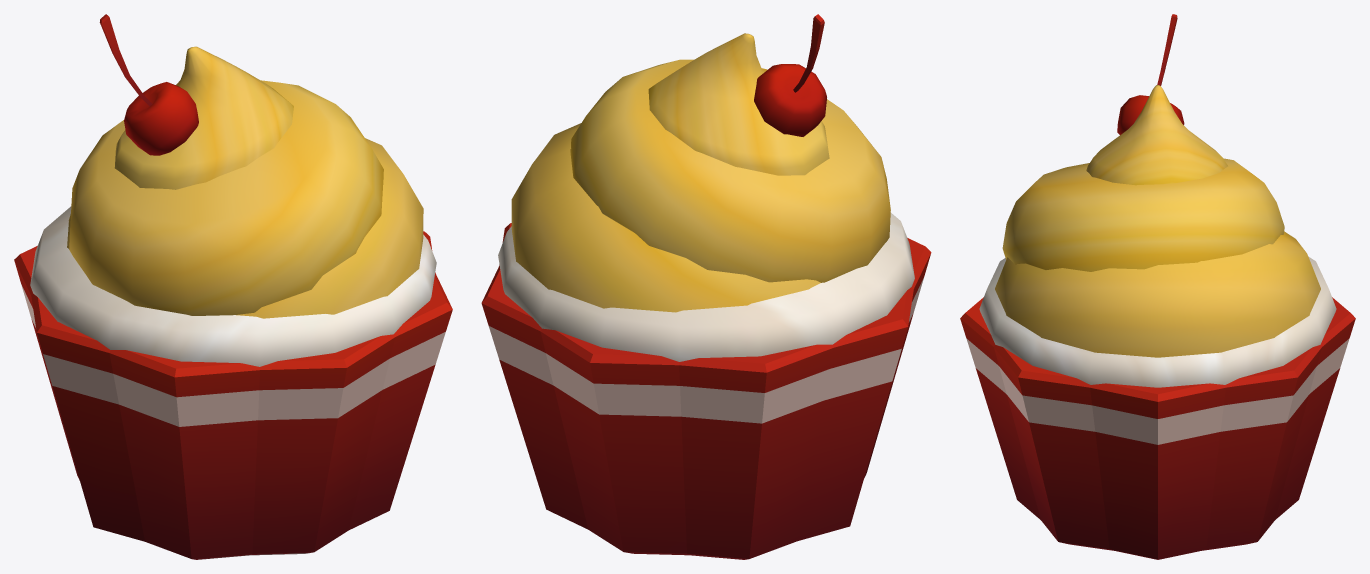
File: Cupcake.fbx
3 renders of one model, left to right at view 1: azimuth 30°, elevation 25°; view 2: azimuth 150°, elevation 25°; view 3: azimuth 270°, elevation 25°, orthographic. The views are drawn at different scales.
Visible parts, largest first — view 1: Cupcake; view 2: Cupcake; view 3: Cupcake.
Part boxes in pixels (x1,y1,x2,y2): Cupcake: (14, 14, 452, 559); Cupcake: (481, 14, 931, 559); Cupcake: (960, 14, 1355, 559).
Bounding box in the file's own units: 10.56 × 13.06 × 10.56.
